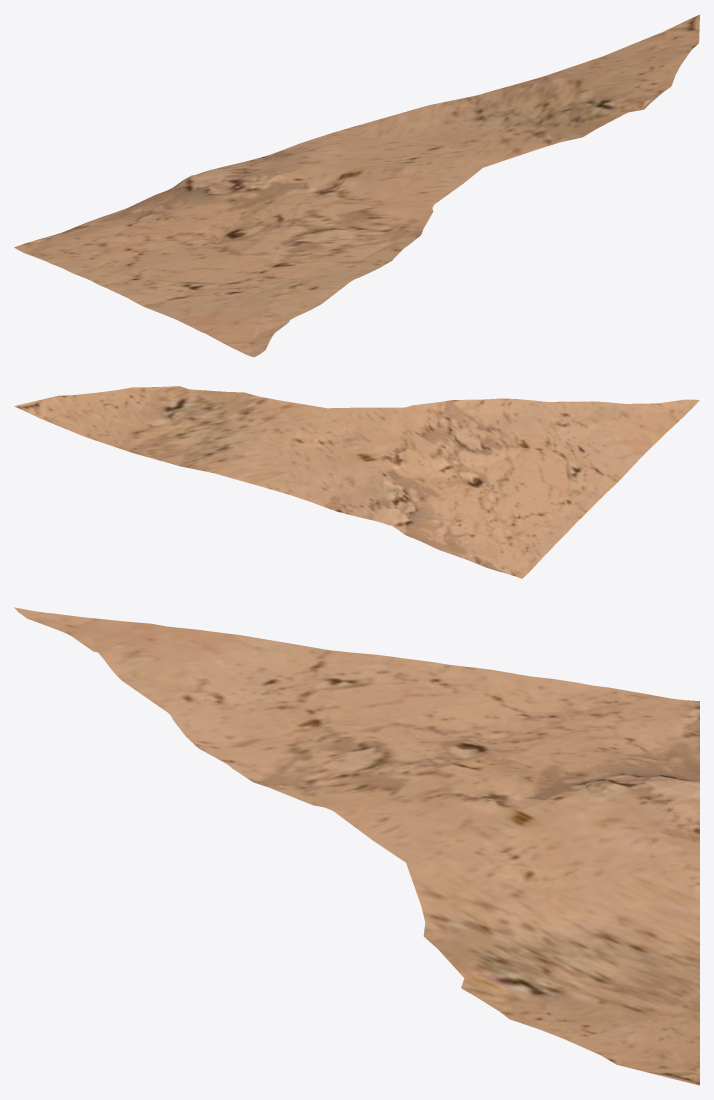
3 views of the same model, one above another, from view 1: azimuth 30°, elevation 25°; view 2: azimuth 150°, elevation 25°; view 3: azimuth 270°, elevation 25° (orthographic). The views are drawn at different scales.
Size of the model in its own units: 3.32 by 0.3035 by 2.01.
Materials: 1 (1 with a texture image).
